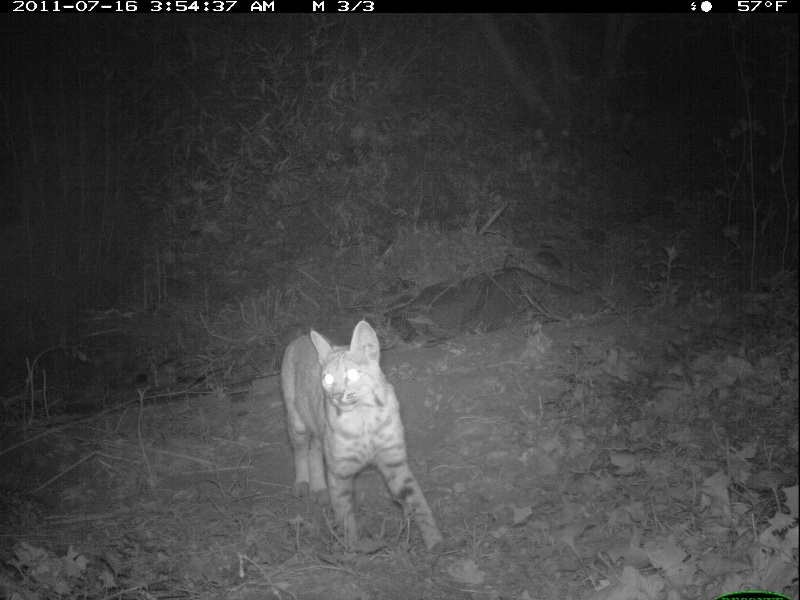cat: (278, 316, 452, 558)
